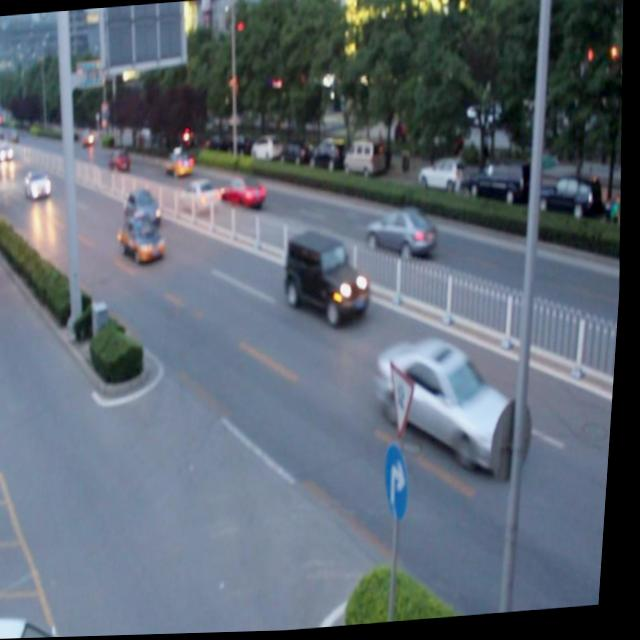car: (379, 336, 534, 481), (287, 233, 376, 327), (0, 606, 120, 640), (368, 209, 438, 261), (118, 219, 169, 265), (223, 176, 266, 212), (181, 181, 224, 215), (125, 191, 164, 228), (164, 152, 194, 179)
